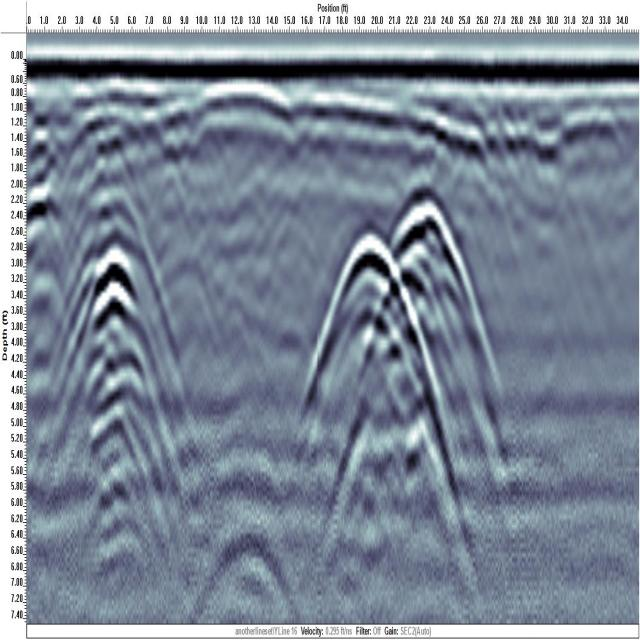hyperbola: (307, 227, 428, 416), (376, 185, 484, 359)
